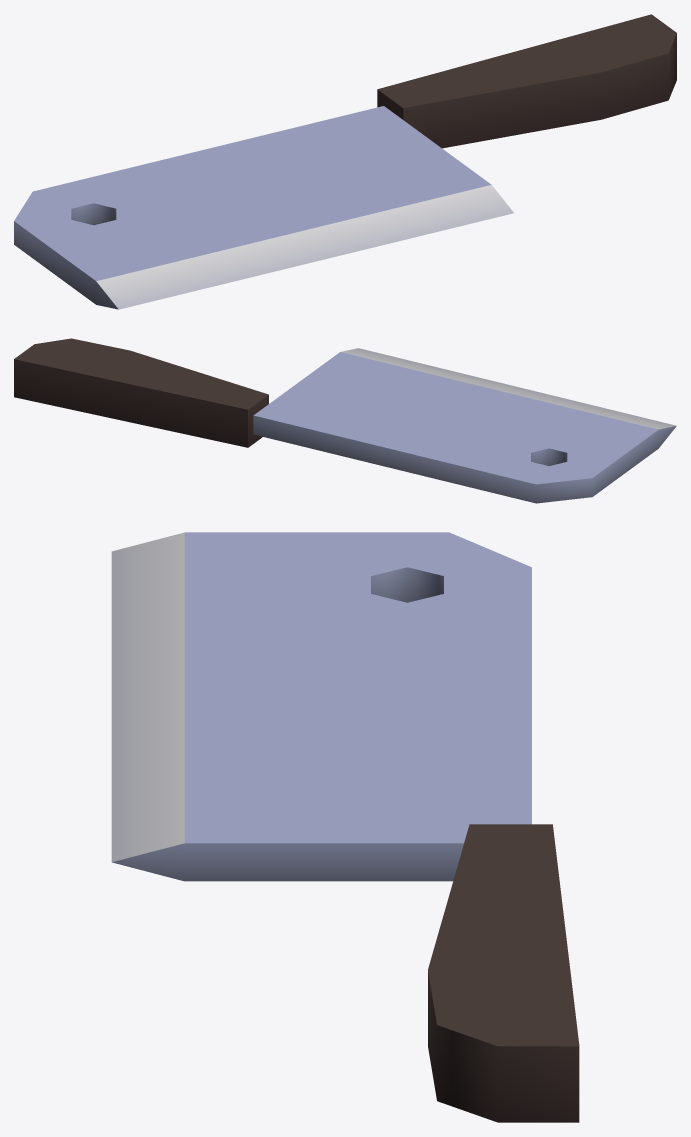
Rendered from cooking-knife-chopping.glb.
The picture shows the model from 3 angles, top to bottom: view 1: azimuth 30°, elevation 25°; view 2: azimuth 150°, elevation 25°; view 3: azimuth 270°, elevation 25°; orthographic projection. The views are drawn at different scales.
Parts seen in each view (by area): view 1: cooking-knife-chopping; view 2: cooking-knife-chopping; view 3: cooking-knife-chopping.
Boxes of the visible parts, left/top/right/bottom form: cooking-knife-chopping: left=14, top=14, right=676, bottom=309; cooking-knife-chopping: left=14, top=338, right=676, bottom=503; cooking-knife-chopping: left=111, top=532, right=579, bottom=1122.
Size of the model in its own units: 0.6 by 0.04 by 0.2227.
